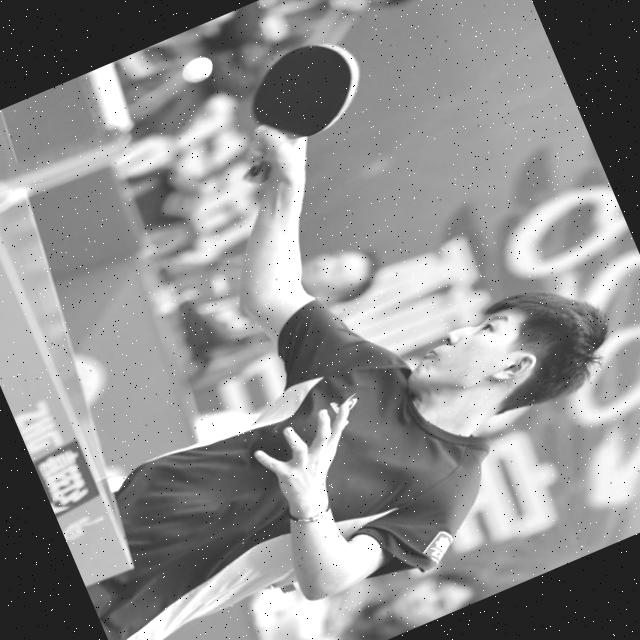ping-pong-ball: (175, 48, 220, 88)
